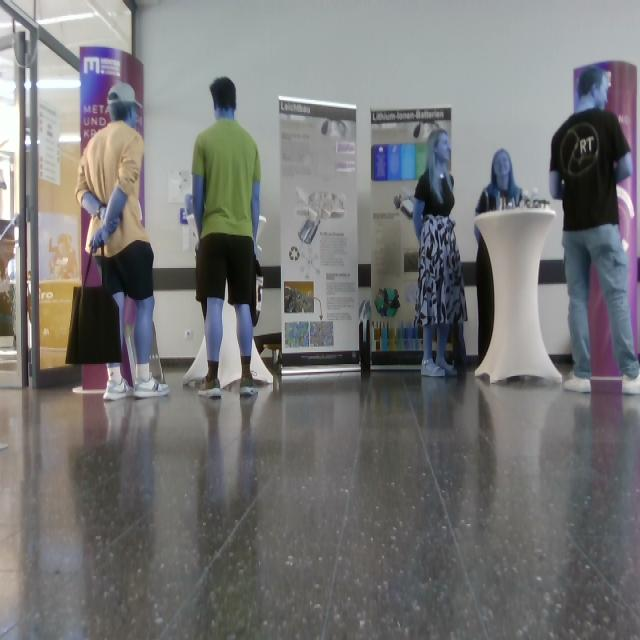light bulb: (295, 185, 346, 245), (107, 81, 143, 108), (298, 218, 320, 244), (394, 192, 414, 220), (413, 121, 440, 140), (321, 119, 346, 139), (255, 216, 267, 252)
person: (75, 81, 171, 401), (549, 65, 640, 396), (191, 77, 262, 398), (413, 129, 468, 378), (475, 149, 524, 248)
pillar: (474, 205, 563, 385)
tiled floor: (1, 362, 640, 640)
